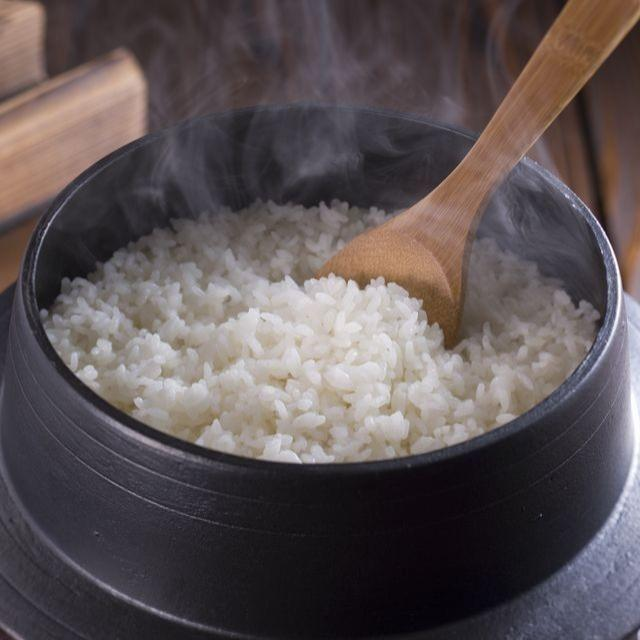rice: (42, 202, 597, 462)
